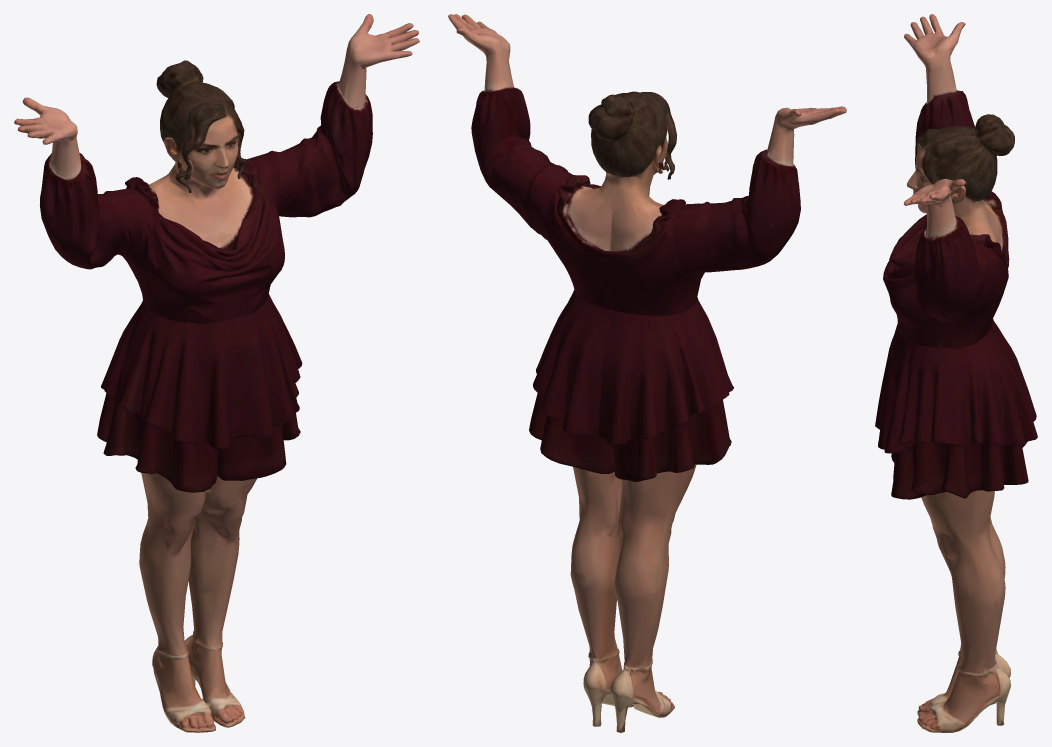
The model's file is kirsty.glb.
3 views of the same model, side by side, from view 1: azimuth 30°, elevation 25°; view 2: azimuth 150°, elevation 25°; view 3: azimuth 270°, elevation 25° (orthographic). The views are drawn at different scales.
Parts seen in each view (by area): view 1: model; view 2: model; view 3: model.
Boxes of the visible parts, x1,y1,x2,y2 form: model: [14, 14, 419, 732]; model: [448, 14, 846, 732]; model: [875, 14, 1037, 732].
Size of the model in its own units: 0.6251 by 0.9775 by 0.2334.
Materials: 1 (1 with a texture image).
